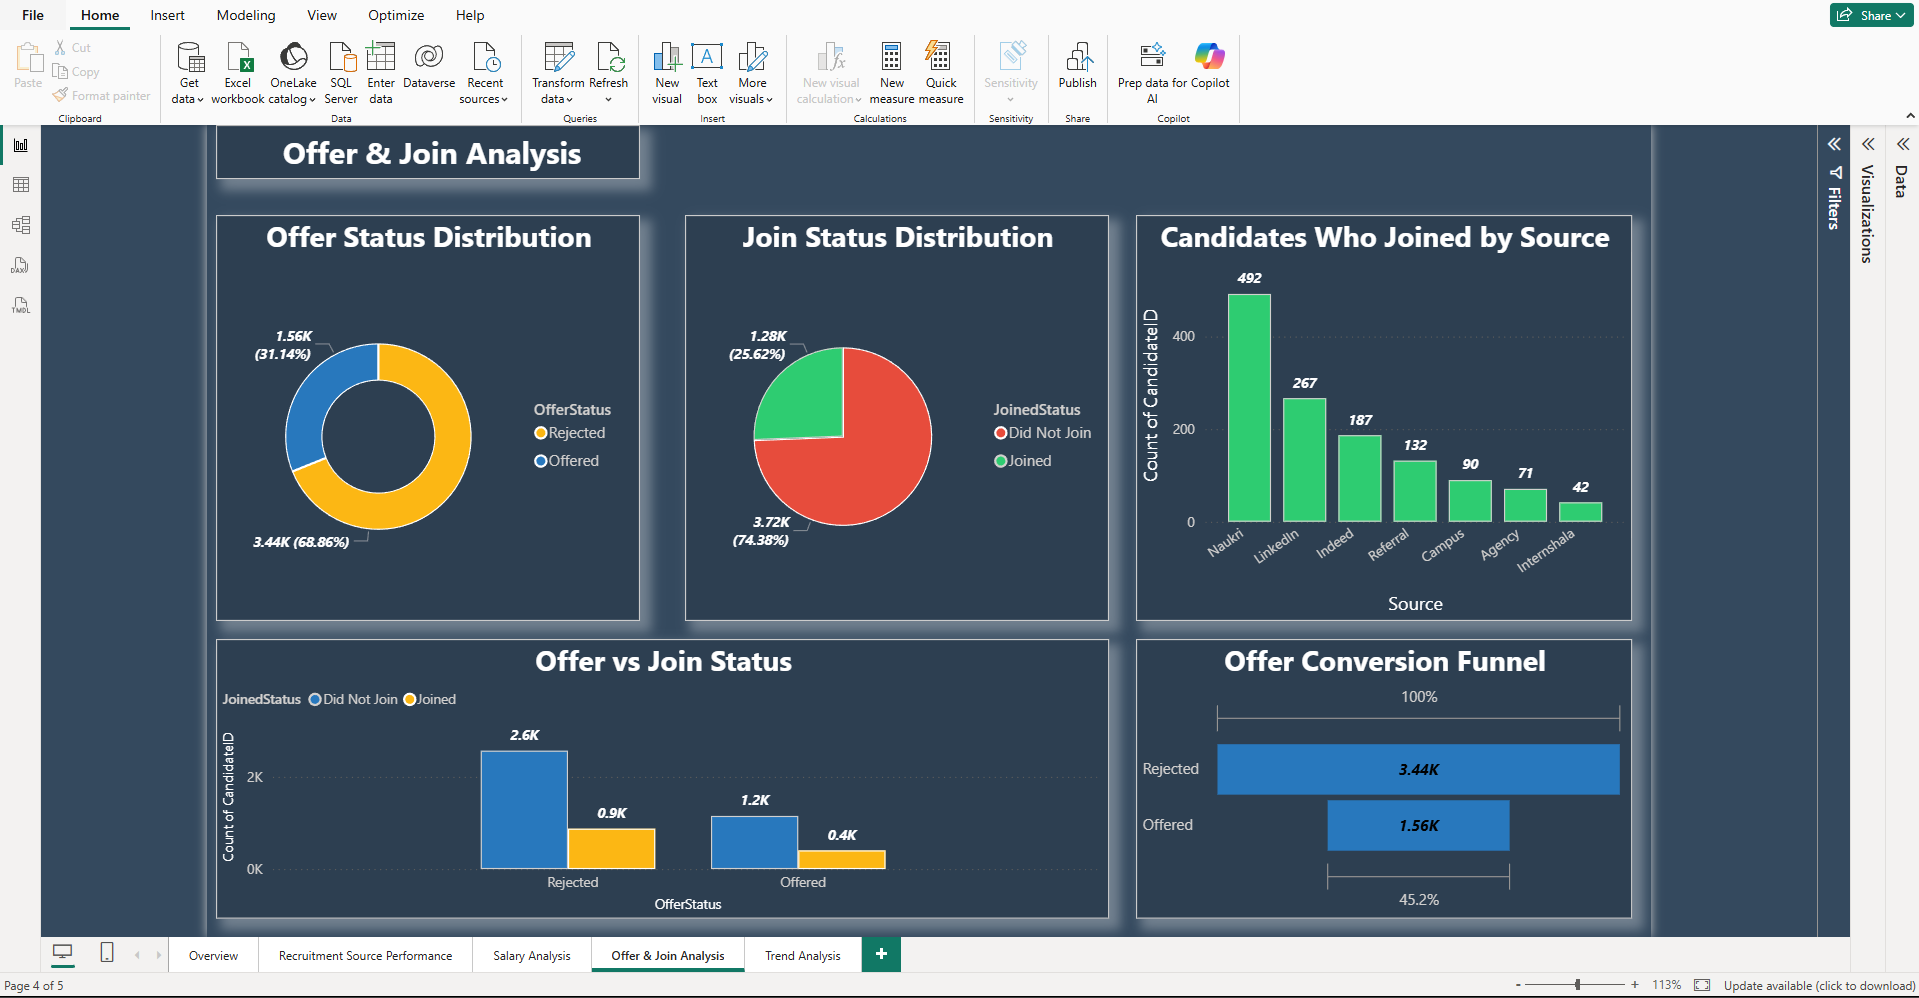

The page's visual inventory and layout, read from the dashboard file:
{"tool":"powerbi","page":{"name":"Offer & Join Analysis","canvas":[1280,720],"ordinal":3},"visuals":[{"type":"textbox","box":[8,0,376,48],"z":0},{"type":"donutChart","title":"Offer Status Distribution","fields":{"Category":["talent_source_effectiveness_5000.OfferStatus"],"Y":["CountNonNull(talent_source_effectiveness_5000.CandidateID)"]},"box":[8,80,376,360],"z":1000},{"type":"pieChart","title":"Join Status Distribution","fields":{"Category":["talent_source_effectiveness_5000.JoinedStatus"],"Y":["CountNonNull(talent_source_effectiveness_5000.CandidateID)"]},"box":[424,80,376,360],"z":2000},{"type":"clusteredColumnChart","title":"Offer vs Join Status","fields":{"Category":["talent_source_effectiveness_5000.OfferStatus"],"Series":["talent_source_effectiveness_5000.JoinedStatus"],"Y":["CountNonNull(talent_source_effectiveness_5000.CandidateID)"]},"box":[8,456,792,248],"z":3000},{"type":"clusteredColumnChart","title":"Candidates Who Joined by Source","fields":{"Category":["talent_source_effectiveness_5000.Source"],"Y":["CountNonNull(talent_source_effectiveness_5000.CandidateID)"]},"box":[824,80,440,360],"z":4000},{"type":"funnel","title":"Offer Conversion Funnel","fields":{"Category":["talent_source_effectiveness_5000.OfferStatus"],"Y":["CountNonNull(talent_source_effectiveness_5000.CandidateID)"]},"box":[824,456,440,248],"z":5000}]}

Visuals, with their boxes on the page's 1280x720 design canvas (x1, y1, x2, y2). These are canvas units, not pixel positions in the 1919x998 screenshot, which may show the page scaled, cropped or inside an application window:
textbox: (left=8, top=0, right=384, bottom=48)
"Offer Status Distribution" donutChart: (left=8, top=80, right=384, bottom=440)
"Join Status Distribution" pieChart: (left=424, top=80, right=800, bottom=440)
"Offer vs Join Status" clusteredColumnChart: (left=8, top=456, right=800, bottom=704)
"Candidates Who Joined by Source" clusteredColumnChart: (left=824, top=80, right=1264, bottom=440)
"Offer Conversion Funnel" funnel: (left=824, top=456, right=1264, bottom=704)
